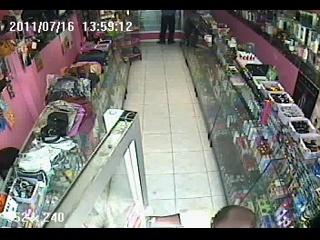Normal: (210, 204, 258, 228), (156, 10, 176, 44)
